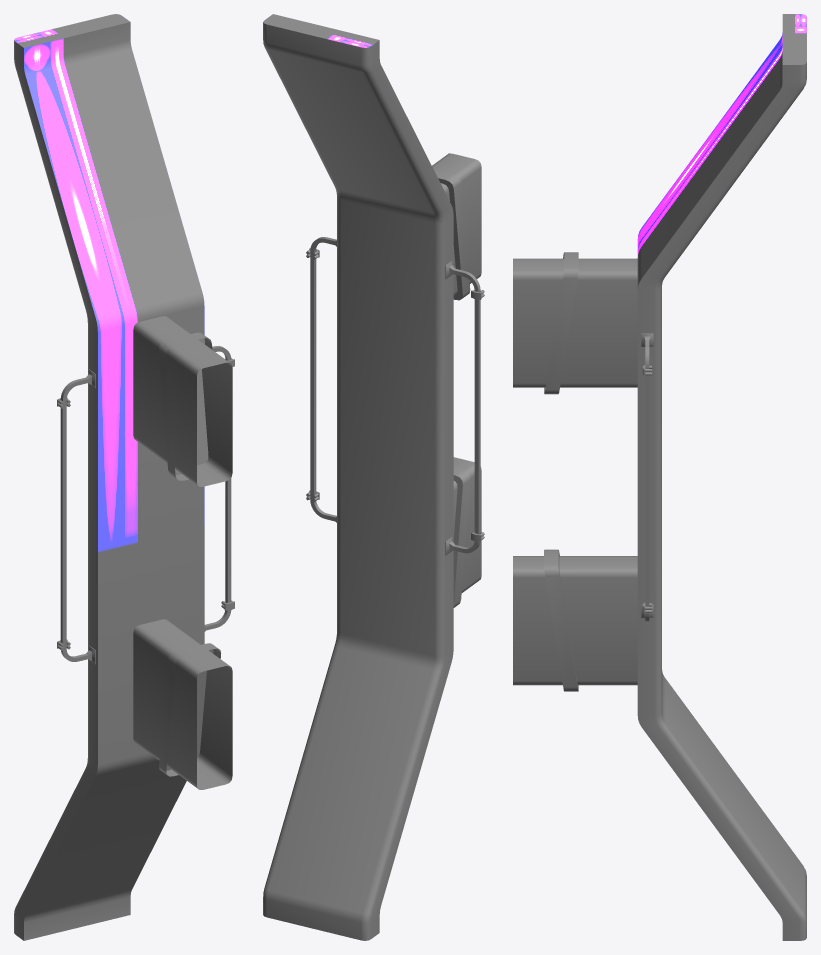
Rendered from Spct_Wall_SpprtPil_01.FBX.
3 renders of one model, left to right at view 1: azimuth 30°, elevation 25°; view 2: azimuth 150°, elevation 25°; view 3: azimuth 270°, elevation 25°, orthographic.
Parts seen in each view (by area): view 1: Spct_Wall_SpprtPil_01; view 2: Spct_Wall_SpprtPil_01; view 3: Spct_Wall_SpprtPil_01.
Boxes of the visible parts, bbox=[...] form: Spct_Wall_SpprtPil_01: bbox=[14, 14, 234, 940]; Spct_Wall_SpprtPil_01: bbox=[263, 14, 484, 940]; Spct_Wall_SpprtPil_01: bbox=[513, 14, 806, 940].
Size of the model in its own units: 0.8174 by 4 by 1.22.
